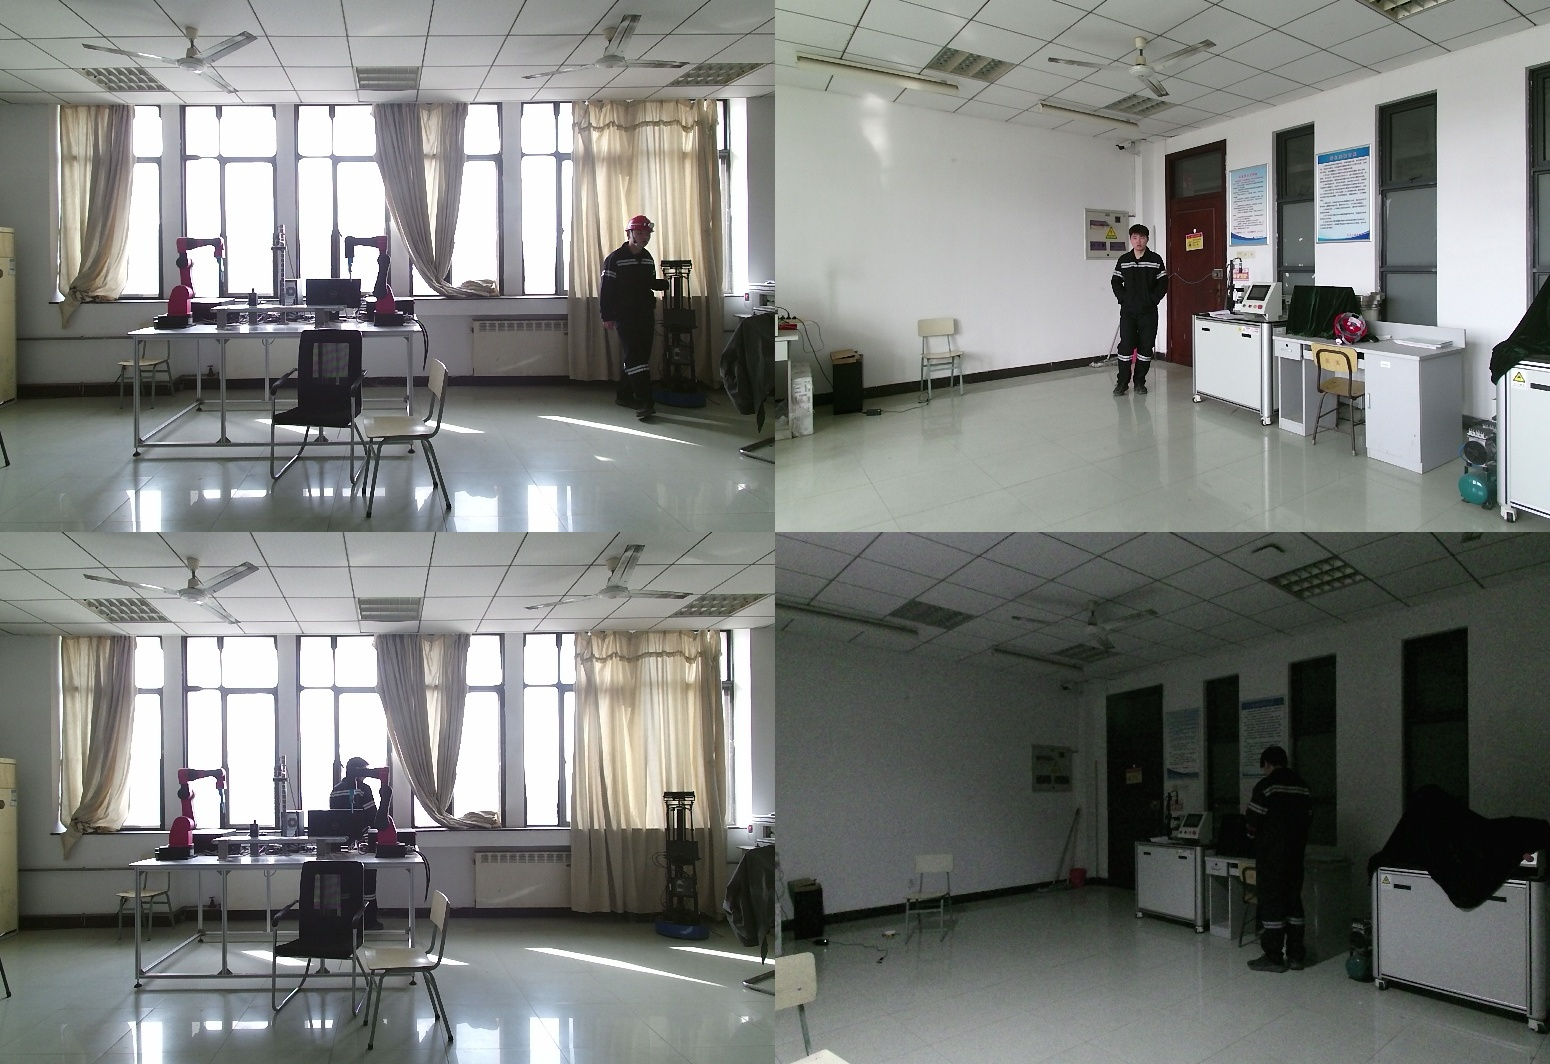person: (1244, 746, 1338, 969), (599, 215, 672, 422), (1108, 224, 1172, 398), (332, 758, 392, 935)
